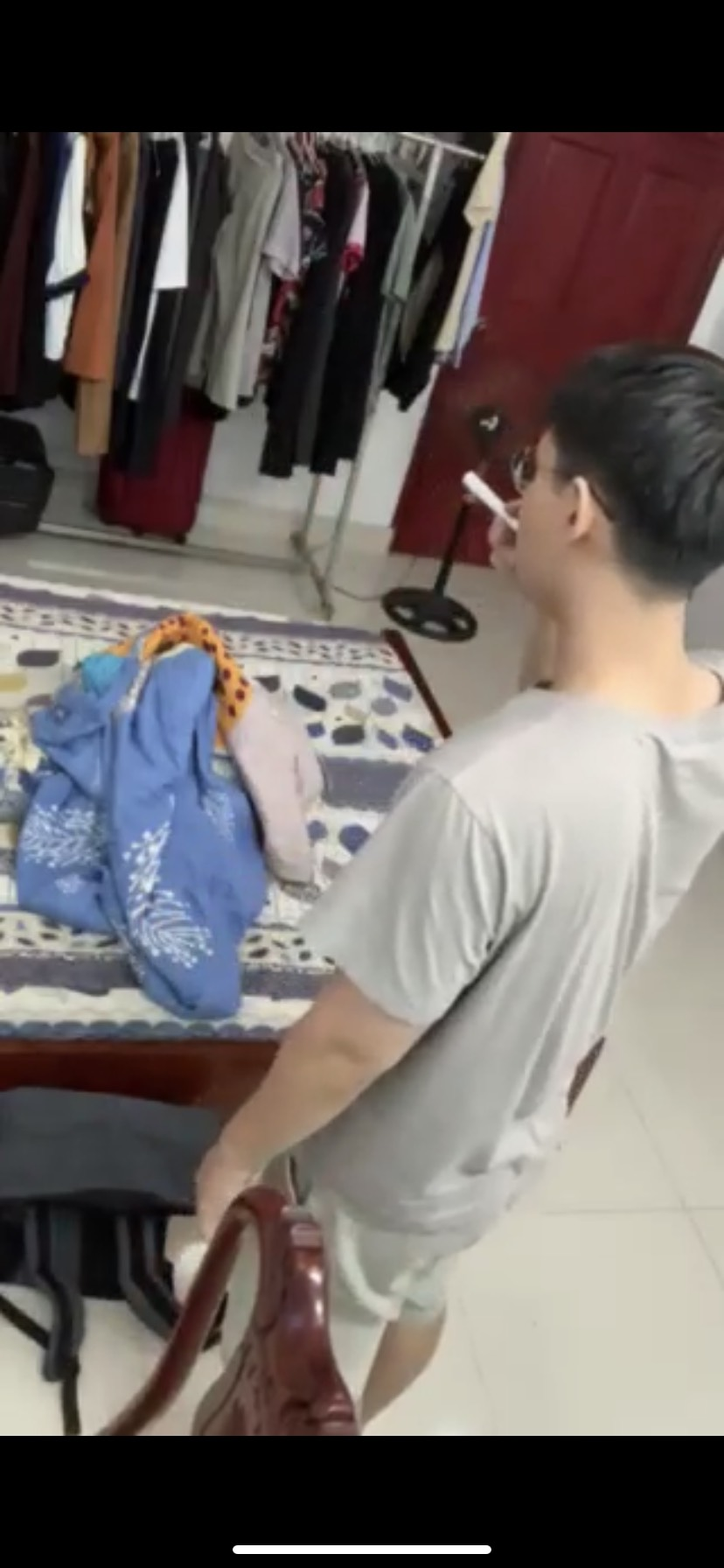cigarette: (448, 450, 515, 522)
person: (330, 318, 724, 1346)
